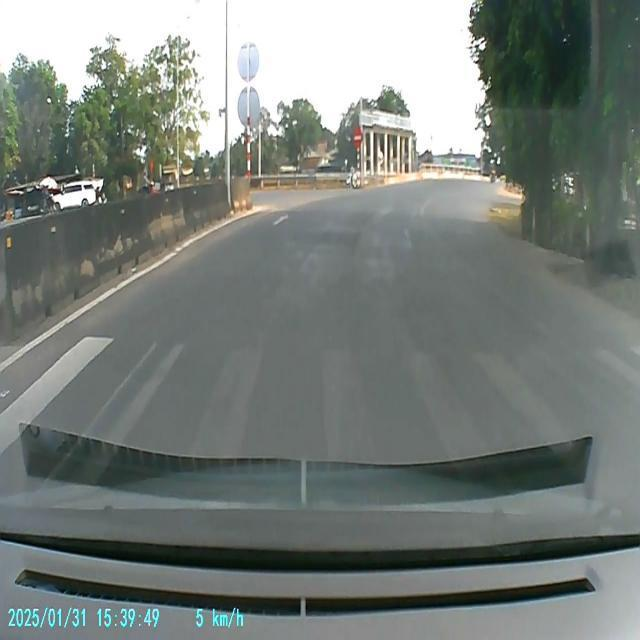102-cam-di-nguoc-chieu: (352, 128, 364, 147)
